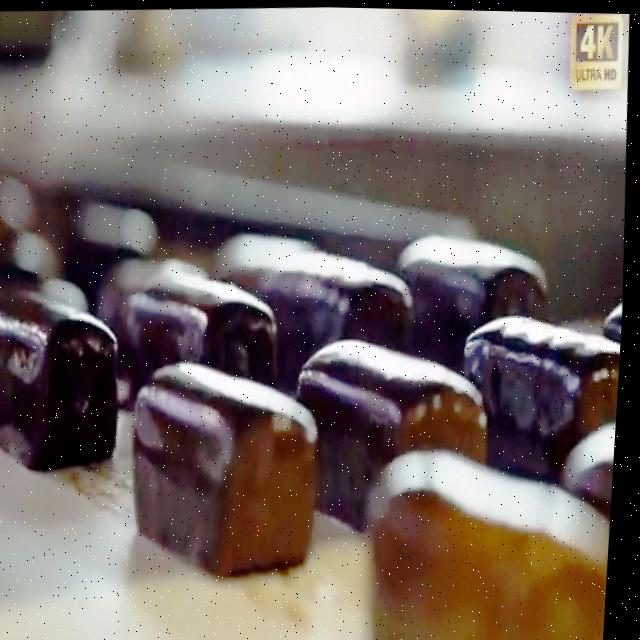Choco: (363, 435, 620, 640), (126, 349, 334, 581), (292, 324, 500, 531), (217, 219, 424, 385), (464, 297, 627, 473), (0, 276, 131, 472), (129, 249, 289, 406), (394, 224, 568, 365)
